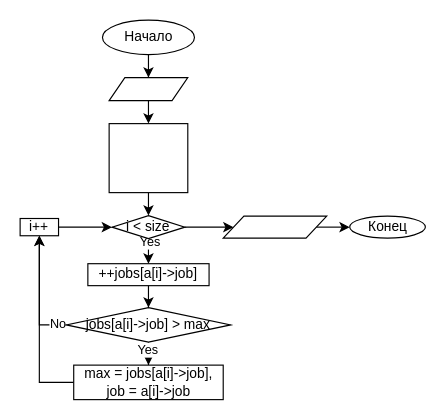
Image size: 446x420. Some labels were removed from this diagram. The centre of each missing label's shape, as x and y in pixels:
"a[], int size" belongs at [148,88].
"coutJob(job)" belongs at [274,226].
"jobs[4] = {0} max = 0, job = 0, i = 0" belongs at [148,157].
